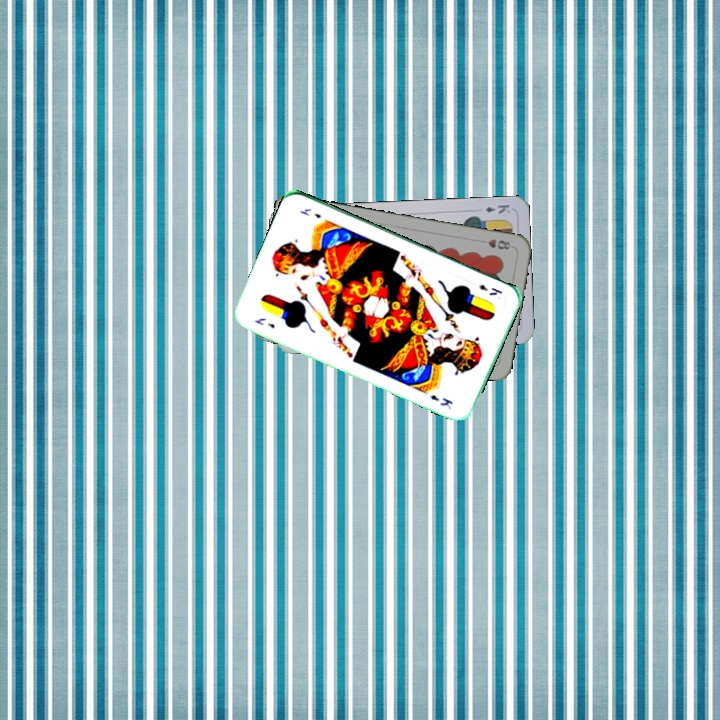EK: (474, 280, 504, 298), (481, 200, 513, 216), (250, 314, 277, 331)
H8: (484, 235, 513, 252)
